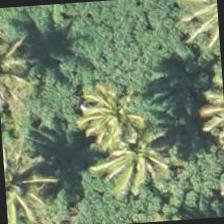Kelapa_Sawit: (84, 110, 180, 206), (64, 68, 160, 164), (2, 144, 59, 223)
